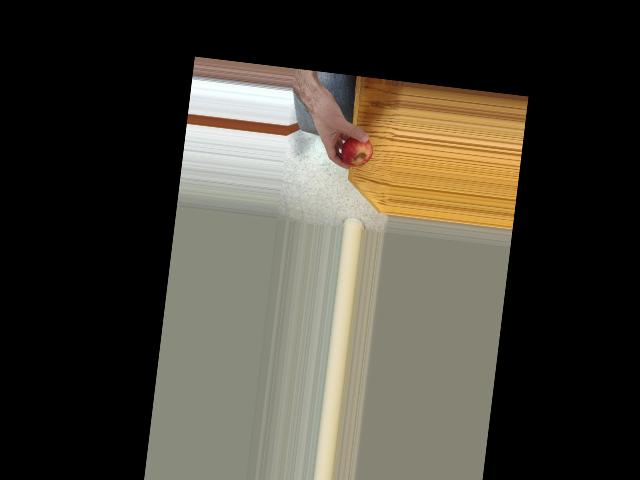apple: (339, 131, 375, 169)
